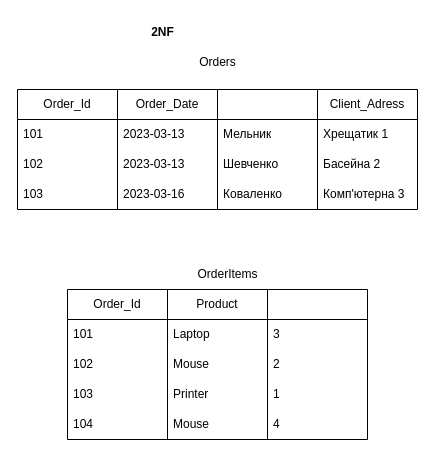
This 435x457 diagram has some shape labels left out. Here are the shapes that lost their labels. From the top down, the box of each, then its label:
(216, 88, 318, 210): Client_Name
(266, 288, 368, 440): Quantity
